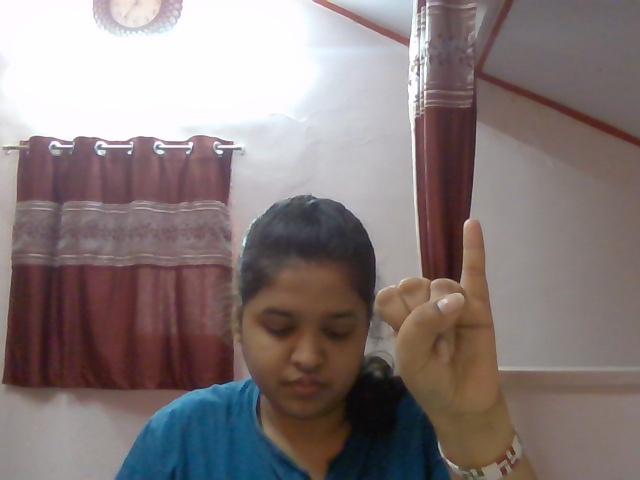i: (379, 202, 494, 401)
